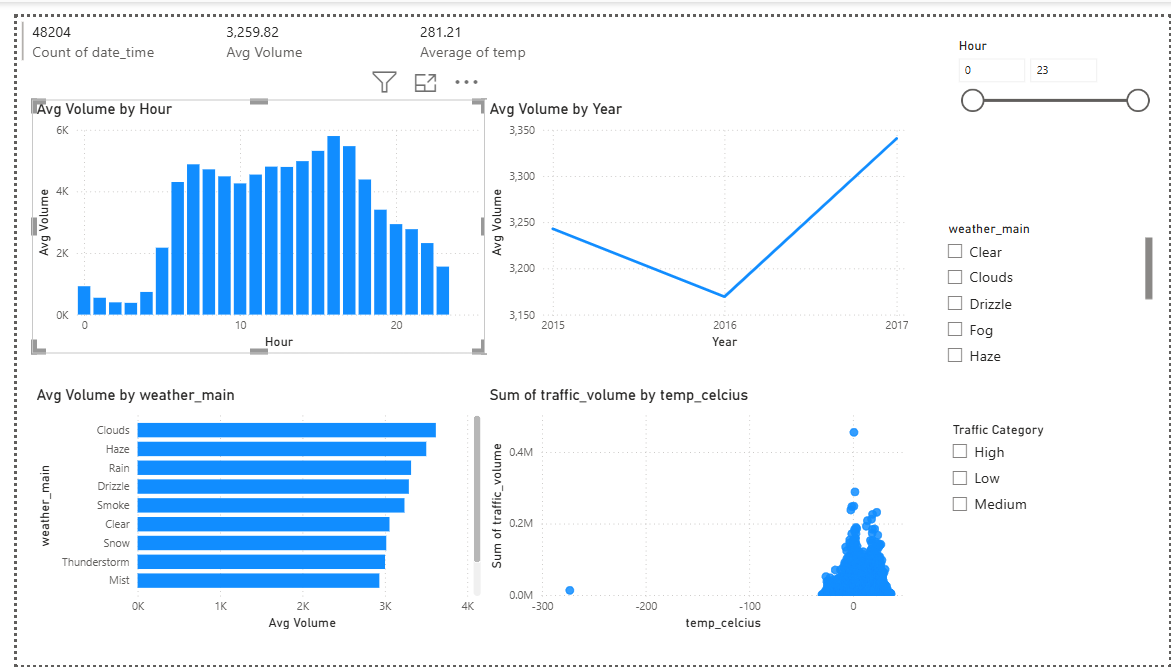

This screenshot's page, from the dashboard's own definition file:
{"tool":"powerbi","page":{"name":"Page 1","canvas":[1280,720],"ordinal":0},"visuals":[{"type":"multiRowCard","fields":{"Values":["Metro_Interstate_Traffic_Volume.date_time","Metro_Interstate_Traffic_Volume.Avg Volume","Avg(Metro_Interstate_Traffic_Volume.temp)"]},"box":[0,0,668.3,66.7],"z":0},{"type":"slicer","fields":{"Values":["Metro_Interstate_Traffic_Volume.Hour"]},"box":[1033.3,18.3,233.3,160],"z":1000},{"type":"slicer","fields":{"Values":["Metro_Interstate_Traffic_Volume.Traffic Category"]},"box":[1026.7,445,246.7,176.7],"z":2000},{"type":"slicer","fields":{"Values":["Metro_Interstate_Traffic_Volume.weather_main"]},"box":[1021.7,221.7,245,176.7],"z":3000},{"type":"clusteredColumnChart","fields":{"Category":["Metro_Interstate_Traffic_Volume.Hour"],"Y":["Metro_Interstate_Traffic_Volume.Avg Volume"]},"box":[16.7,91.7,503.3,281.7],"z":4000},{"type":"lineChart","fields":{"Category":["Metro_Interstate_Traffic_Volume.date_time.Variation.Date Hierarchy.Year"],"Y":["Metro_Interstate_Traffic_Volume.Avg Volume"]},"box":[520,91.7,475,281.7],"z":5000},{"type":"clusteredBarChart","fields":{"Category":["Metro_Interstate_Traffic_Volume.weather_main"],"Y":["Metro_Interstate_Traffic_Volume.Avg Volume"]},"box":[16.7,410,503.3,275],"z":6000},{"type":"scatterChart","fields":{"X":["Metro_Interstate_Traffic_Volume.temp_celcius"],"Y":["Sum(Metro_Interstate_Traffic_Volume.traffic_volume)"]},"box":[520,410,475,275],"z":7000}]}

Visuals, with their boxes in screenshot pixels (x1, y1, x2, y2), scaled from the page's 1280x720 canvas onto the 1171x667 screenshot:
multiRowCard - Metro_Interstate_Traffic_Volume.date_time x Metro_Interstate_Traffic_Volume.Avg Volume: <box>0,0,611,62</box>
slicer - Metro_Interstate_Traffic_Volume.Hour: <box>945,17,1159,165</box>
slicer - Metro_Interstate_Traffic_Volume.Traffic Category: <box>939,412,1165,576</box>
slicer - Metro_Interstate_Traffic_Volume.weather_main: <box>935,205,1159,369</box>
clusteredColumnChart - Metro_Interstate_Traffic_Volume.Hour x Metro_Interstate_Traffic_Volume.Avg Volume: <box>15,85,476,346</box>
lineChart - Metro_Interstate_Traffic_Volume.date_time.Variation.Date Hierarchy.Year x Metro_Interstate_Traffic_Volume.Avg Volume: <box>476,85,910,346</box>
clusteredBarChart - Metro_Interstate_Traffic_Volume.weather_main x Metro_Interstate_Traffic_Volume.Avg Volume: <box>15,380,476,635</box>
scatterChart - Metro_Interstate_Traffic_Volume.temp_celcius x Sum(Metro_Interstate_Traffic_Volume.traffic_volume): <box>476,380,910,635</box>
